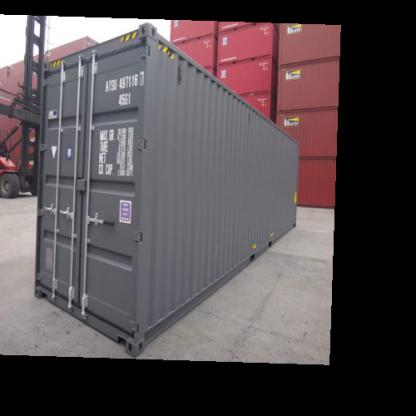Damage: (86, 42, 152, 58)
